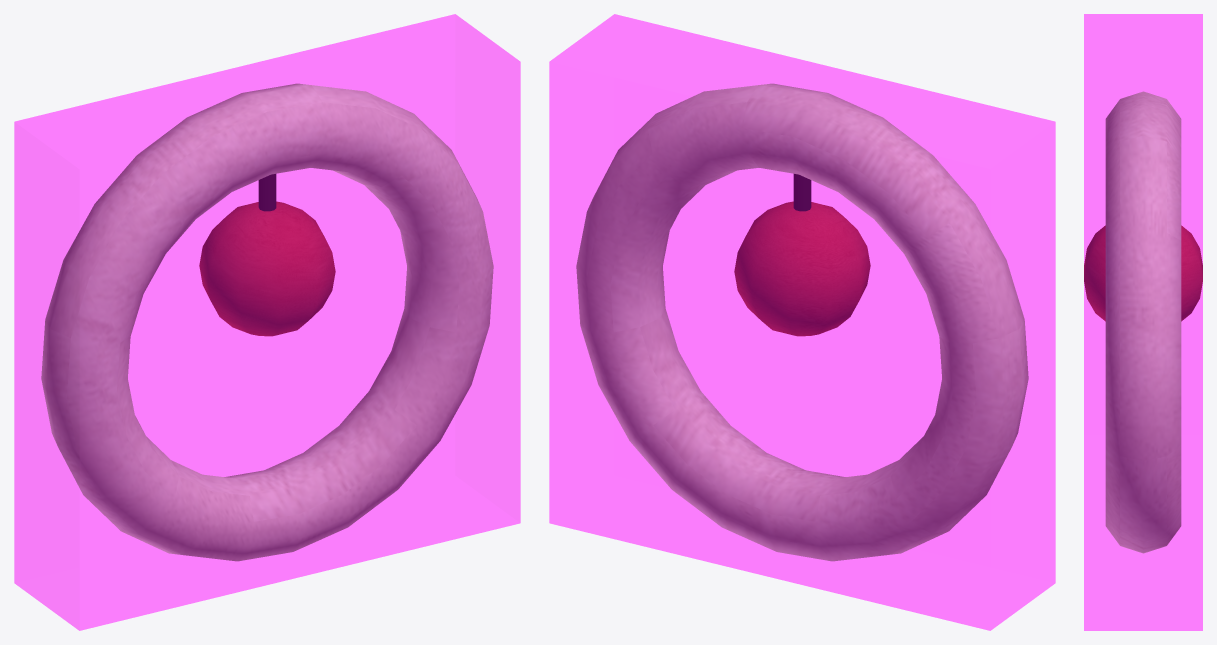
The model's file is babytoy_A.fbx.
The picture shows the model from 3 angles, left to right: view 1: azimuth 30°, elevation 25°; view 2: azimuth 150°, elevation 25°; view 3: azimuth 270°, elevation 25°; orthographic projection. The views are drawn at different scales.
Parts seen in each view (by area): view 1: boundingbox, toy_A; view 2: boundingbox, toy_A; view 3: boundingbox, toy_A.
Boxes of the visible parts, x1,y1,x2,y2 form: boundingbox: (14,14,520,630); toy_A: (41,83,493,561); boundingbox: (549,14,1055,630); toy_A: (576,83,1028,561); boundingbox: (1084,14,1202,630); toy_A: (1084,91,1202,553).
Size of the model in its own units: 14.68 by 14.68 by 3.76.
4 materials, 2 textured.
